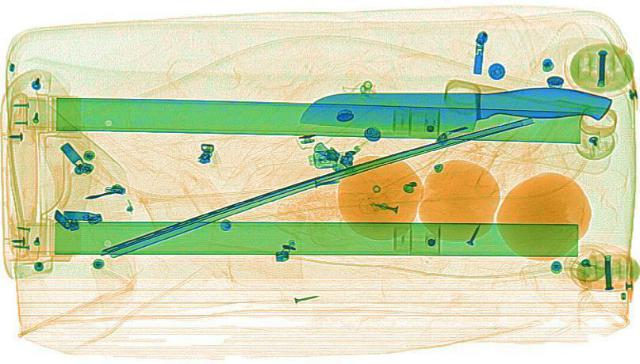Knife: (299, 84, 611, 131)
